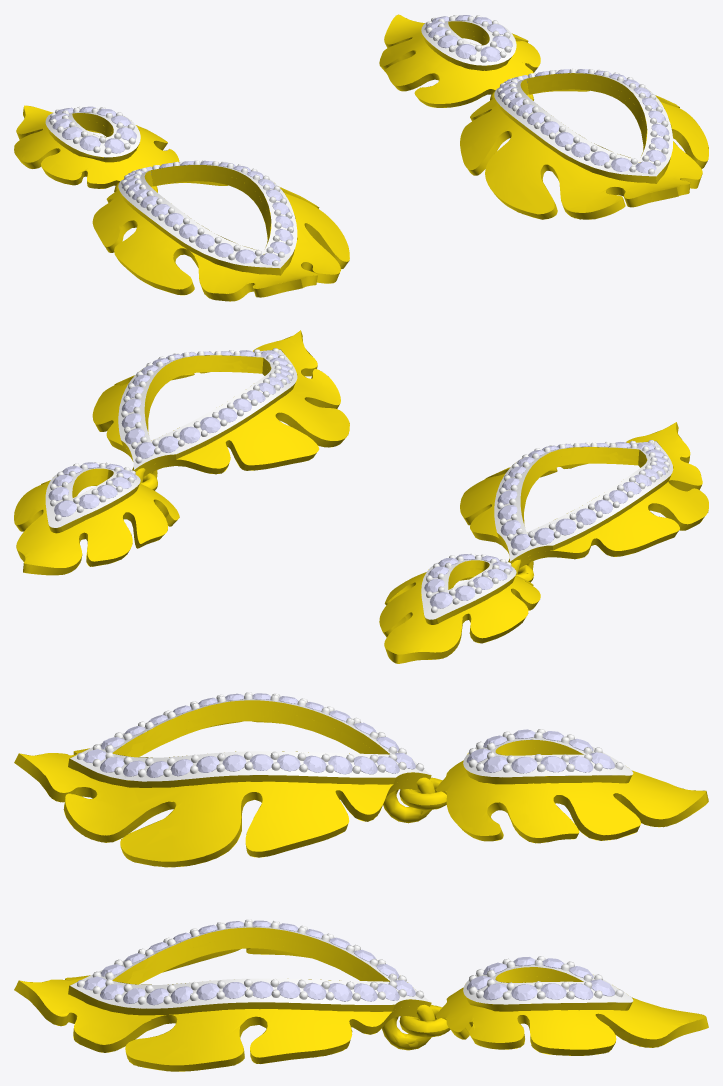
3 renders of one model, top to bottom at view 1: azimuth 30°, elevation 25°; view 2: azimuth 150°, elevation 25°; view 3: azimuth 270°, elevation 25°, orthographic. The views are drawn at different scales.
Visible parts, largest first — view 1: highPolyMesh, lowPolyMesh; view 2: highPolyMesh, lowPolyMesh; view 3: highPolyMesh, lowPolyMesh.
Part boxes in pixels (x1,y1,x2,y2): highPolyMesh: [14, 15, 708, 301]; lowPolyMesh: [14, 14, 708, 301]; highPolyMesh: [14, 330, 708, 663]; lowPolyMesh: [14, 330, 708, 663]; highPolyMesh: [14, 692, 708, 1071]; lowPolyMesh: [14, 692, 708, 1071].
Bounding box in the file's own units: 0.0346 × 0.00466 × 0.0293.
